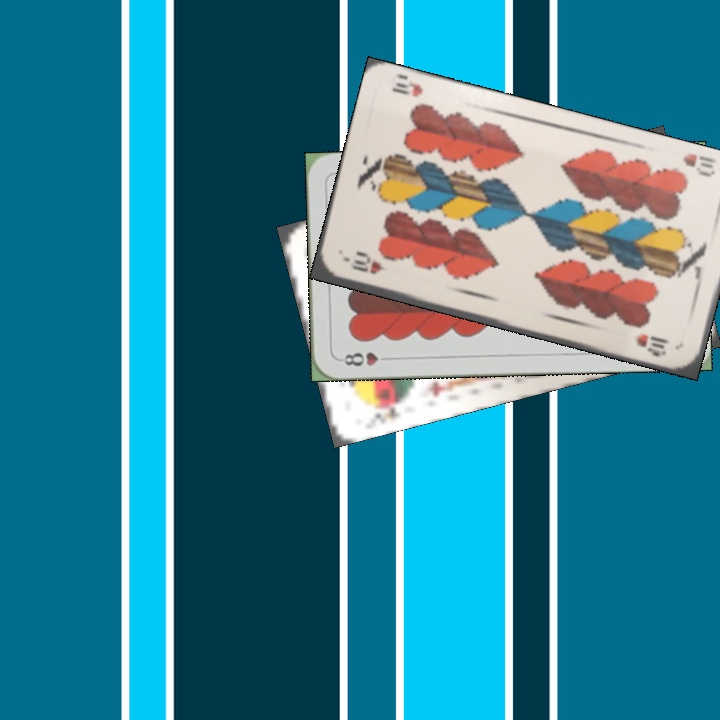H10: (679, 149, 718, 180), (346, 255, 390, 277)
H8: (336, 348, 395, 369)
SK: (364, 401, 403, 427)
